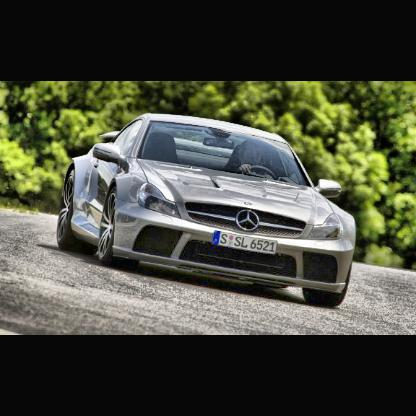Mercedes-Benz SL-Class Coupe 2009: (58, 114, 357, 309)
